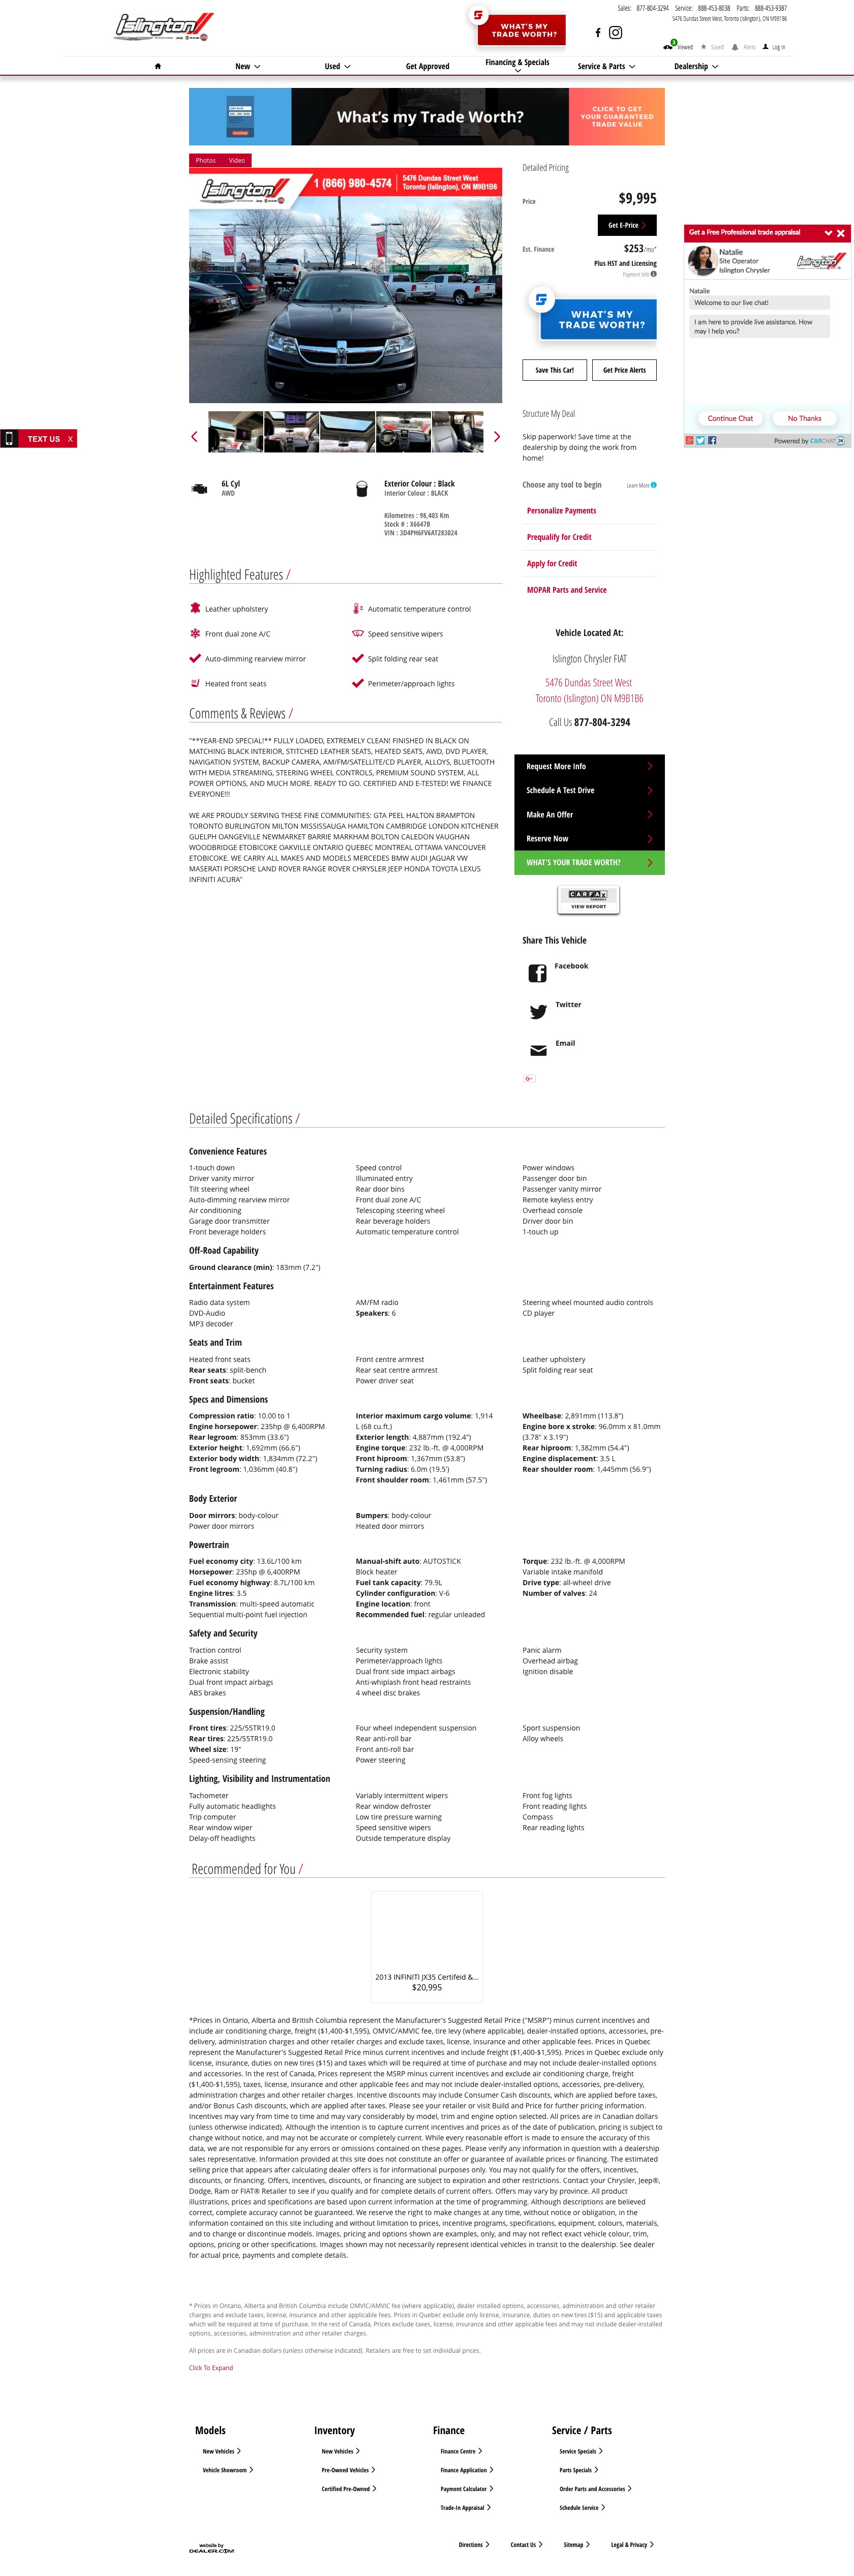car: (494, 430, 501, 444)
